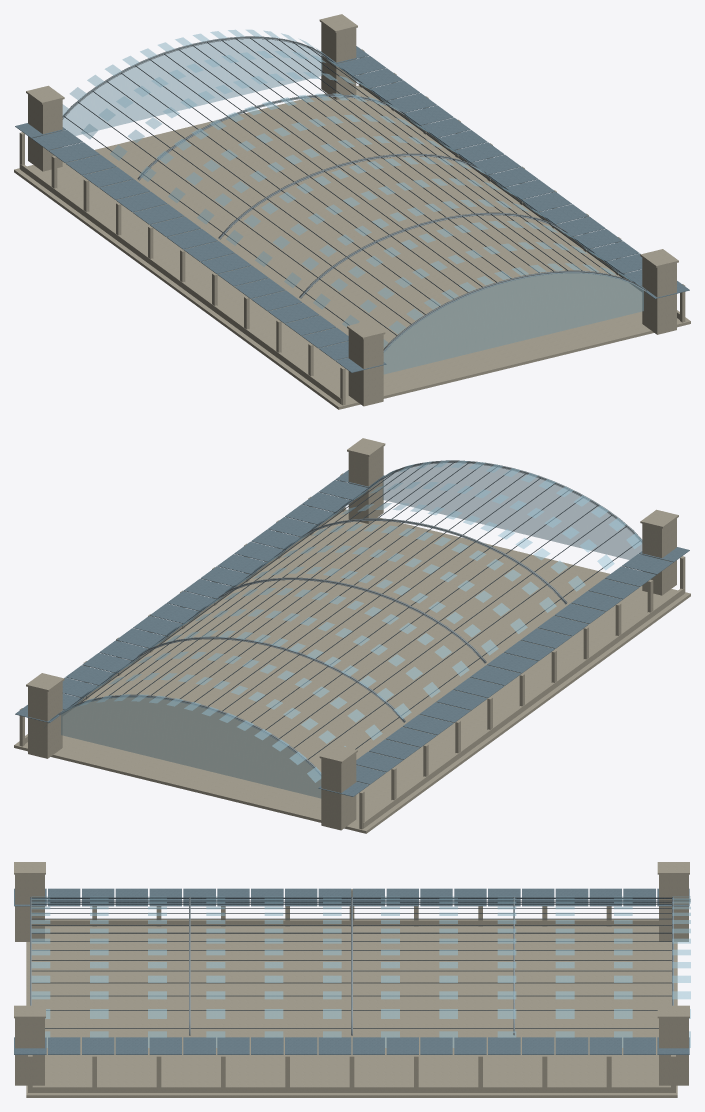
The model's file is RAIL01_hlod.glb.
3 renders of one model, top to bottom at view 1: azimuth 30°, elevation 25°; view 2: azimuth 150°, elevation 25°; view 3: azimuth 270°, elevation 25°, orthographic.
Visible parts, largest first — view 1: Footprint__stone, Glass_End_Gables__safety_glass, Side_Canopy_Envelope__roof_metal, Glazed_Shell__safety_glass, Longitudinal_Frame__dark_steel, Stone_End_Buttresses__stone, Exterior_Rib_Silhouette__galvanized_steel, Long_Side_Pier_Sill__stone, Arcade_Piers__stone, Stone_Buttress_Cap__stone; view 2: Footprint__stone, Glass_End_Gables__safety_glass, Side_Canopy_Envelope__roof_metal, Glazed_Shell__safety_glass, Longitudinal_Frame__dark_steel, Stone_End_Buttresses__stone, Exterior_Rib_Silhouette__galvanized_steel, Long_Side_Pier_Sill__stone, Arcade_Piers__stone, Stone_Buttress_Cap__stone; view 3: Footprint__stone, Side_Canopy_Envelope__roof_metal, Glazed_Shell__safety_glass, Longitudinal_Frame__dark_steel, Long_Side_Pier_Sill__stone, Stone_End_Buttresses__stone, Arcade_Piers__stone, Stone_Buttress_Cap__stone, Exterior_Rib_Silhouette__galvanized_steel.
Boxes of the visible parts, box(x1,y1,x2,y2) form: Footprint__stone: box(14, 85, 690, 409); Glass_End_Gables__safety_glass: box(62, 39, 643, 374); Side_Canopy_Envelope__roof_metal: box(15, 46, 689, 372); Glazed_Shell__safety_glass: box(62, 29, 643, 347); Longitudinal_Frame__dark_steel: box(64, 37, 637, 335); Stone_End_Buttresses__stone: box(28, 23, 676, 406); Exterior_Rib_Silhouette__galvanized_steel: box(62, 36, 646, 352); Long_Side_Pier_Sill__stone: box(20, 85, 679, 404); Arcade_Piers__stone: box(19, 49, 685, 405); Stone_Buttress_Cap__stone: box(26, 14, 678, 339); Footprint__stone: box(14, 509, 690, 833); Glass_End_Gables__safety_glass: box(61, 463, 642, 798); Side_Canopy_Envelope__roof_metal: box(15, 470, 689, 796); Glazed_Shell__safety_glass: box(44, 460, 642, 782); Longitudinal_Frame__dark_steel: box(67, 461, 640, 759); Stone_End_Buttresses__stone: box(28, 447, 676, 830); Exterior_Rib_Silhouette__galvanized_steel: box(58, 460, 642, 775); Long_Side_Pier_Sill__stone: box(25, 509, 684, 828); Arcade_Piers__stone: box(19, 473, 685, 829); Stone_Buttress_Cap__stone: box(26, 438, 678, 763); Footprint__stone: box(26, 926, 677, 1097); Side_Canopy_Envelope__roof_metal: box(14, 888, 689, 1054); Glazed_Shell__safety_glass: box(31, 896, 690, 1047); Longitudinal_Frame__dark_steel: box(31, 897, 671, 1028); Long_Side_Pier_Sill__stone: box(30, 919, 673, 1092); Stone_End_Buttresses__stone: box(15, 874, 688, 1085); Arcade_Piers__stone: box(28, 889, 675, 1092); Stone_Buttress_Cap__stone: box(14, 862, 689, 1018); Exterior_Rib_Silhouette__galvanized_steel: box(30, 897, 673, 1035).
Size of the model in its own units: 151 by 35.71 by 250.
5 materials, 5 textured.
